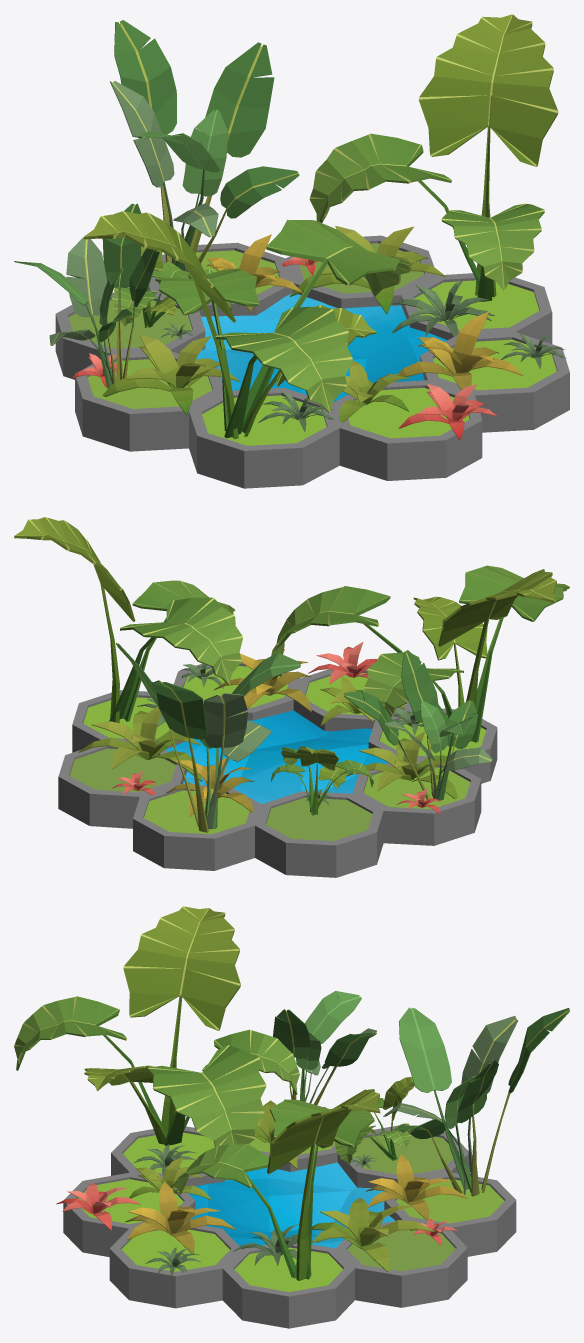
The model's file is Flowerbed_03.fbx.
3 renders of one model, top to bottom at view 1: azimuth 30°, elevation 25°; view 2: azimuth 150°, elevation 25°; view 3: azimuth 270°, elevation 25°, orthographic. The views are drawn at different scales.
Parts seen in each view (by area): view 1: Flowerbed_03; view 2: Flowerbed_03; view 3: Flowerbed_03.
Boxes of the visible parts, x1=… form: Flowerbed_03: x1=14, y1=14, x2=569, y2=488; Flowerbed_03: x1=14, y1=517, x2=569, y2=877; Flowerbed_03: x1=14, y1=906, x2=569, y2=1328.
Bounding box in the file's own units: 628 × 306 × 667.
